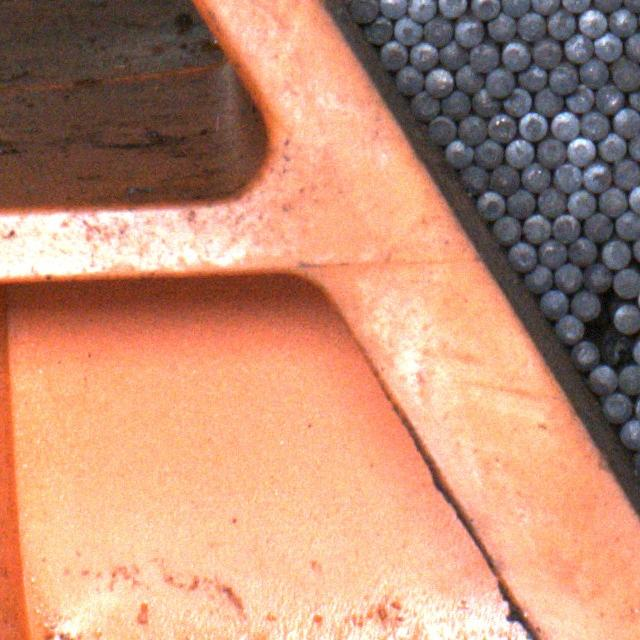tool: (613, 57, 640, 89), (489, 166, 517, 196), (589, 363, 617, 393), (486, 68, 514, 98), (455, 17, 483, 47), (410, 91, 438, 121), (440, 90, 470, 118), (608, 8, 638, 36), (550, 63, 578, 93), (422, 16, 450, 46), (538, 188, 568, 216), (604, 394, 632, 424), (580, 58, 608, 87), (556, 314, 584, 343), (522, 214, 550, 243), (426, 68, 454, 97), (584, 264, 612, 293), (533, 38, 561, 67), (508, 242, 536, 271), (547, 10, 575, 39), (613, 158, 640, 188), (554, 265, 582, 293), (550, 111, 578, 139), (572, 290, 600, 318), (457, 116, 485, 144), (410, 42, 438, 70), (520, 162, 548, 190), (566, 138, 594, 166), (601, 240, 629, 268), (565, 34, 593, 62), (470, 44, 498, 72), (522, 265, 550, 293), (554, 163, 582, 191), (504, 140, 532, 168), (396, 66, 424, 94), (518, 112, 546, 140), (486, 112, 514, 140), (566, 84, 594, 112), (538, 289, 566, 317), (598, 134, 626, 162), (487, 12, 515, 40), (503, 89, 531, 117), (444, 140, 472, 168), (567, 238, 595, 266), (428, 117, 456, 145), (474, 140, 502, 168), (534, 89, 562, 117), (580, 111, 608, 139), (365, 16, 393, 44), (537, 138, 565, 166), (597, 84, 624, 113), (613, 303, 640, 332), (503, 40, 530, 69), (614, 108, 640, 138), (379, 40, 406, 68), (537, 240, 564, 268), (585, 213, 612, 241), (579, 10, 606, 38), (598, 187, 626, 214), (593, 34, 621, 61), (518, 12, 545, 40), (507, 188, 534, 216), (461, 166, 488, 194), (441, 40, 468, 68), (494, 215, 520, 244), (614, 268, 640, 297), (584, 162, 610, 191), (471, 90, 497, 118), (552, 214, 578, 242), (570, 188, 596, 216), (572, 340, 598, 368), (396, 16, 422, 44), (518, 64, 546, 90), (456, 65, 482, 93), (615, 210, 640, 238), (477, 190, 502, 218), (618, 364, 640, 394), (348, 0, 376, 21), (621, 420, 640, 449), (470, 0, 500, 18), (408, 0, 434, 20), (378, 0, 406, 17), (437, 0, 466, 16), (625, 34, 640, 62), (502, 0, 529, 15), (530, 0, 558, 13), (592, 0, 622, 12), (560, 0, 590, 12), (628, 134, 640, 162), (628, 185, 640, 212), (632, 332, 640, 366), (628, 88, 640, 110), (632, 236, 640, 264), (623, 0, 640, 12), (634, 448, 640, 480), (634, 392, 640, 422)
tool_b: (601, 335, 633, 366)
void: (584, 314, 614, 342)
